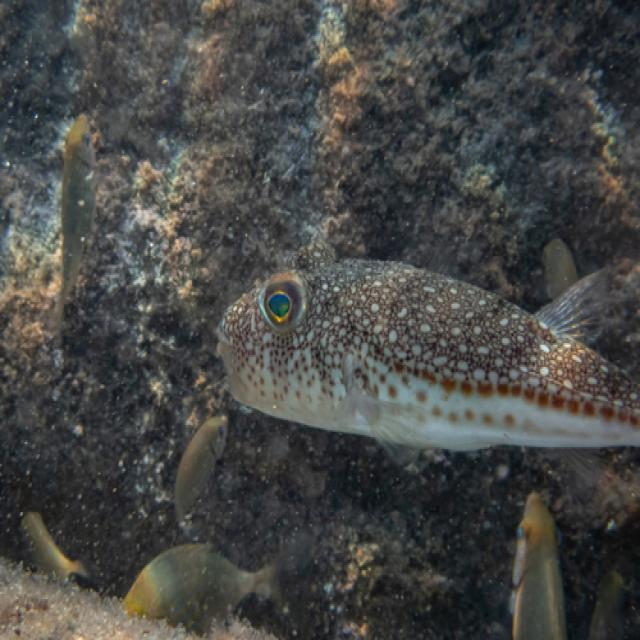Balik: (218, 245, 639, 450), (123, 545, 279, 633), (52, 115, 95, 332), (512, 494, 567, 639), (175, 415, 227, 525), (22, 512, 89, 580), (589, 572, 624, 639), (542, 238, 577, 298)
